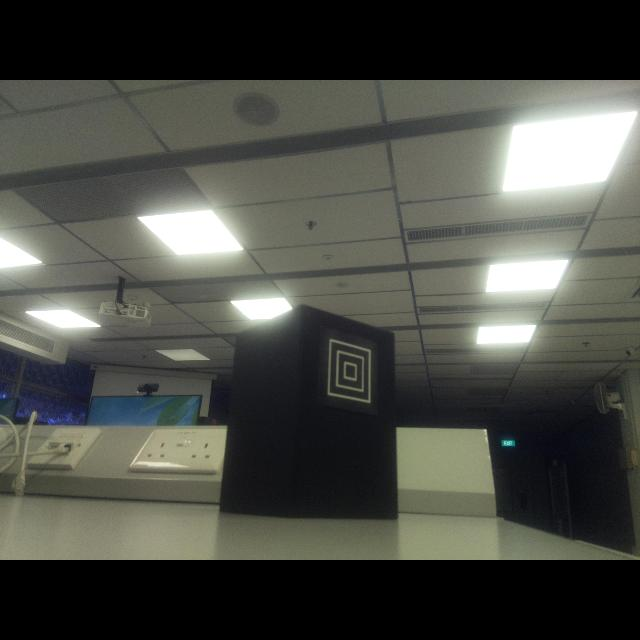BULLSEYE: (327, 339, 371, 404)
